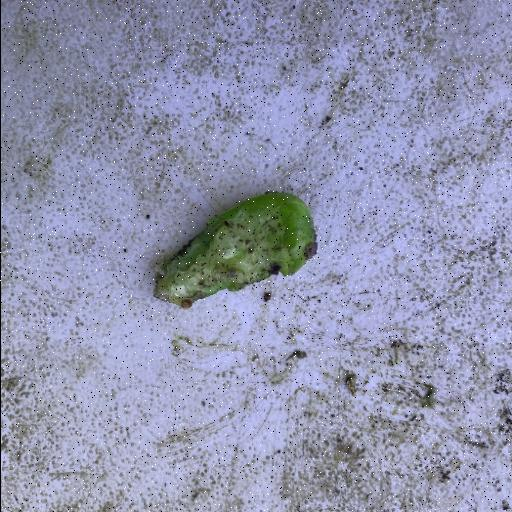Waste: (152, 188, 318, 310)
